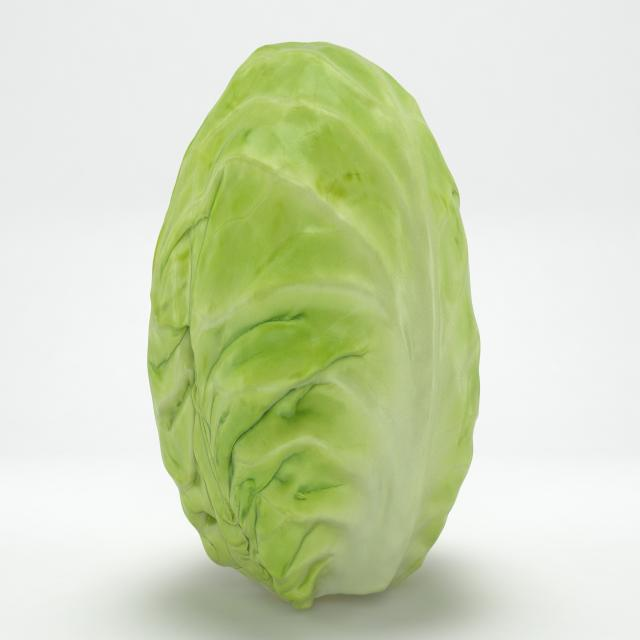cabbage: (144, 28, 482, 610)
